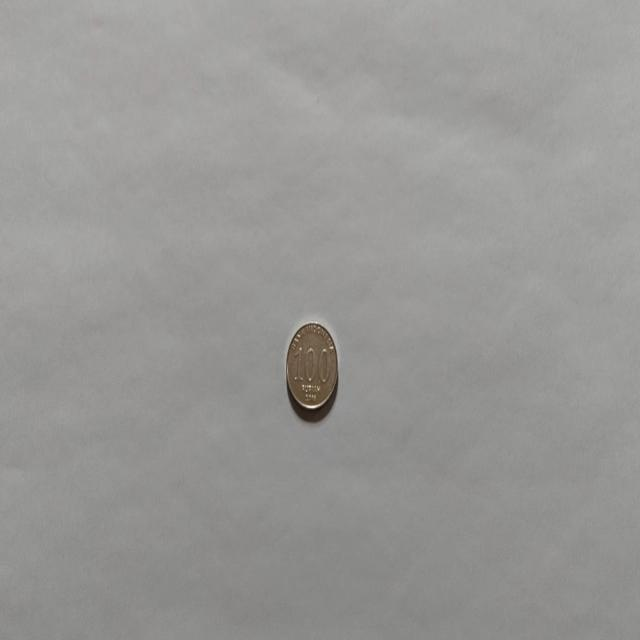seratus rupiah: (285, 320, 339, 412)
